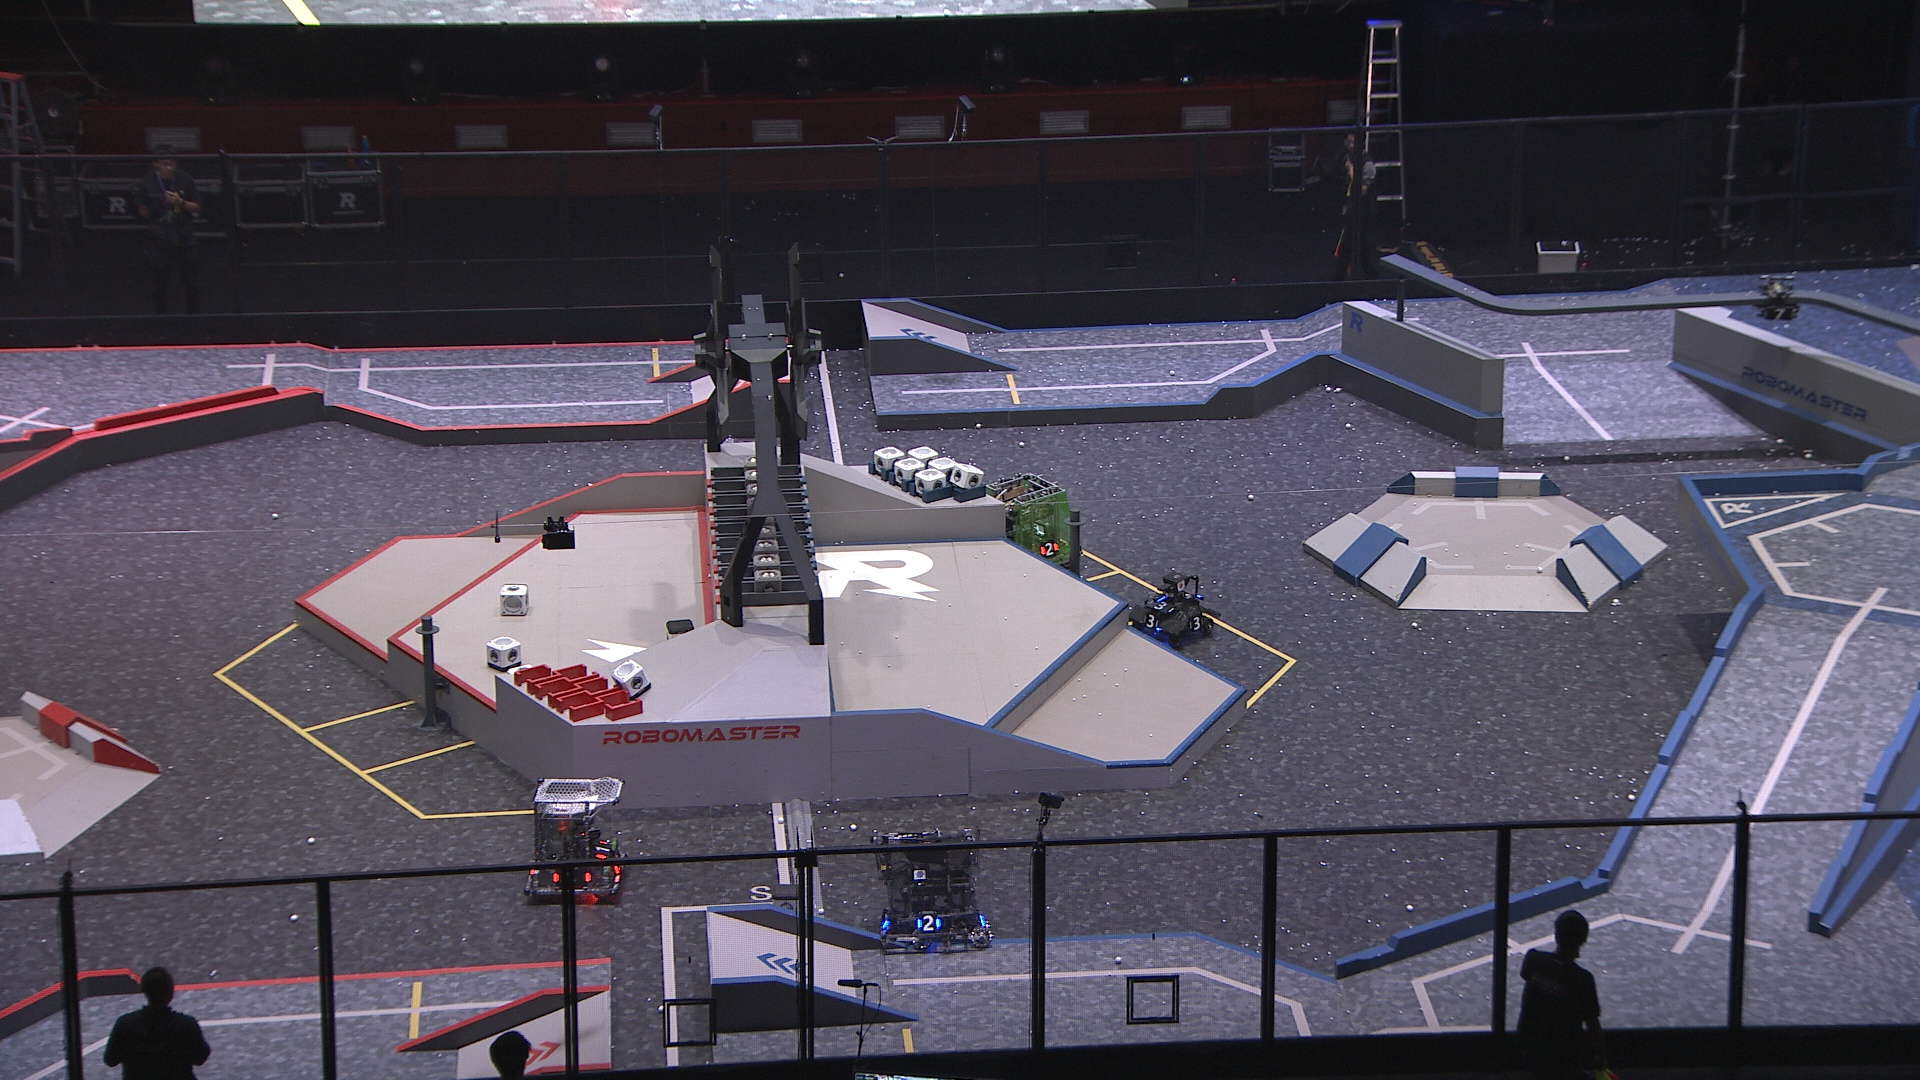armor: (1760, 306, 1792, 323), (1145, 599, 1176, 613), (593, 837, 612, 861), (916, 916, 942, 934), (1036, 541, 1059, 559), (1139, 613, 1162, 632), (1185, 617, 1204, 632)
car: (869, 823, 992, 953), (522, 774, 628, 901), (975, 471, 1079, 572), (1127, 568, 1211, 646)
watcher: (1754, 272, 1804, 324)
